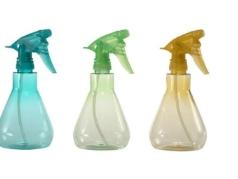PULVERISATEUR: (0, 21, 238, 179)
